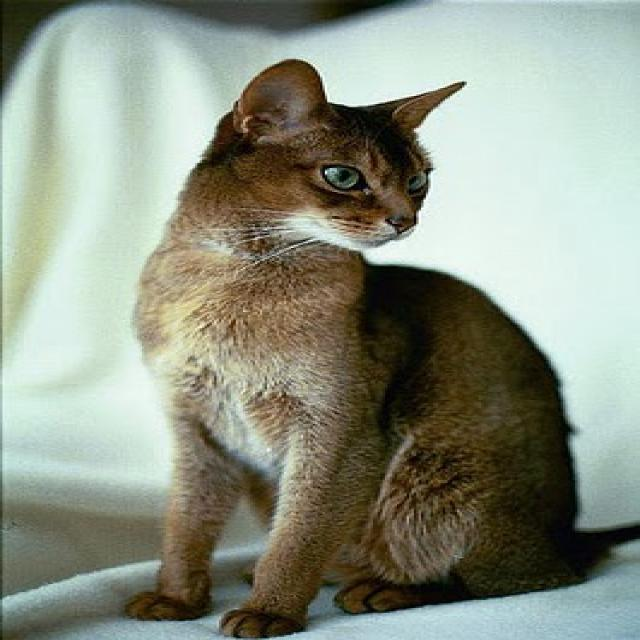Abyssinian: (189, 50, 466, 261)
